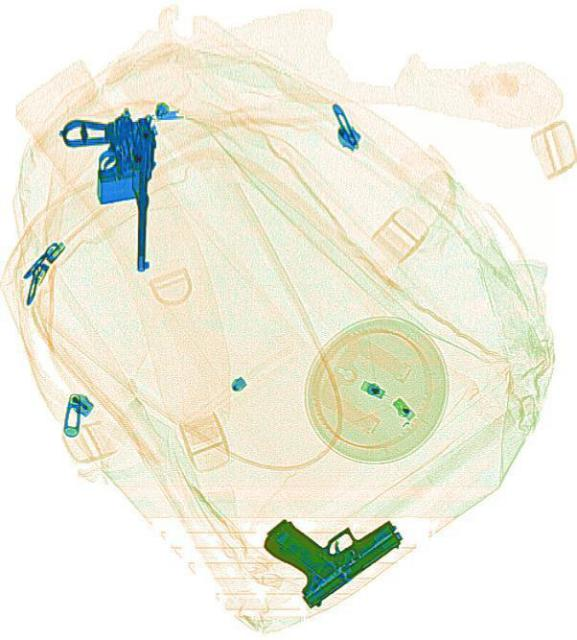Gun: (254, 463, 407, 612), (51, 103, 157, 271)
